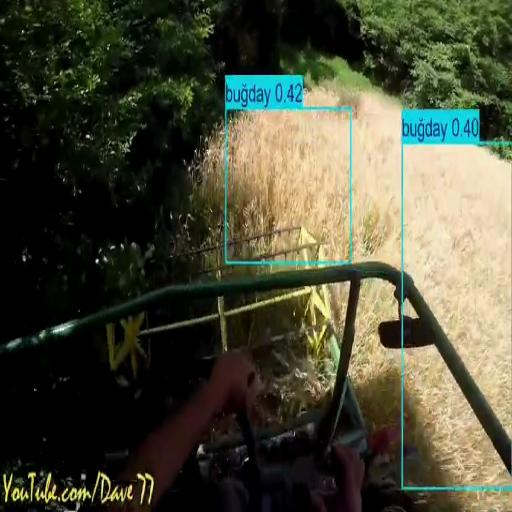bugday: (404, 146, 511, 432), (235, 112, 344, 246), (406, 347, 510, 484), (353, 93, 400, 267), (352, 282, 399, 422), (432, 493, 511, 511)
